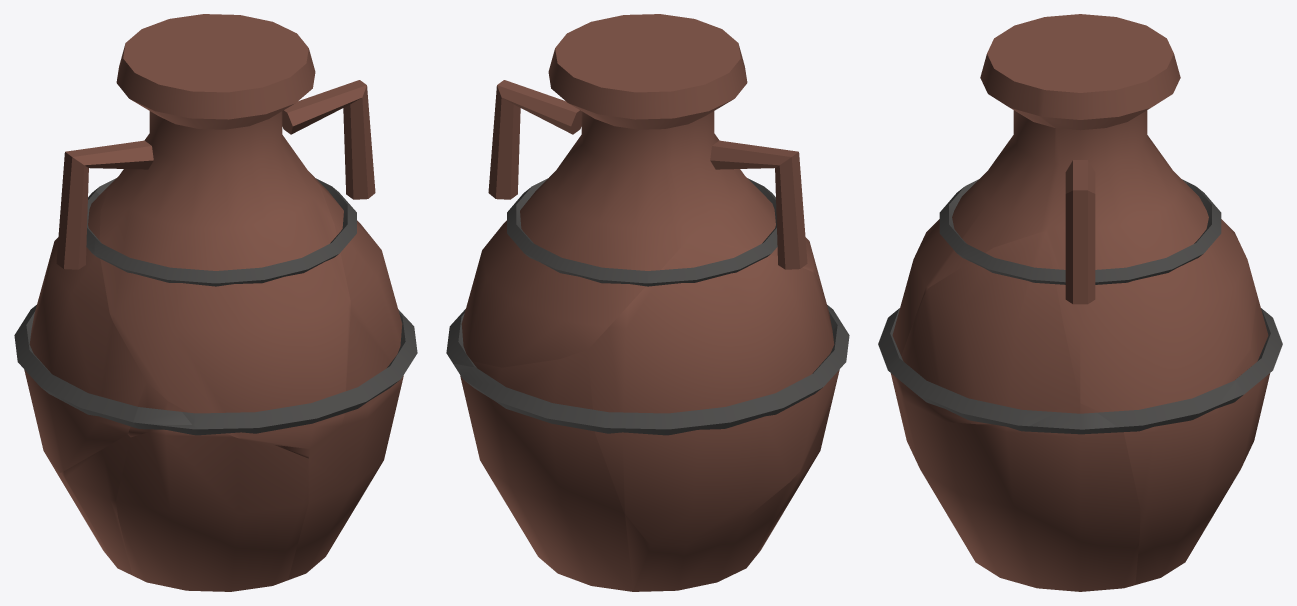
Rendered from urn_fragments.glb.
3 renders of one model, left to right at view 1: azimuth 30°, elevation 25°; view 2: azimuth 150°, elevation 25°; view 3: azimuth 270°, elevation 25°, orthographic.
Parts seen in each view (by area): view 1: frag_01, frag_02, frag_04, frag_00, frag_03, frag_05, frag_07, frag_08; view 2: frag_04, frag_05, frag_06, frag_01, frag_07, frag_00; view 3: frag_05, frag_00, frag_01, frag_03, frag_06.
Boxes of the visible parts, left/top/right/bottom form: frag_01: left=94, top=51, right=375, bottom=448; frag_02: left=116, top=425, right=308, bottom=591; frag_04: left=14, top=190, right=146, bottom=473; frag_00: left=56, top=140, right=406, bottom=580; frag_03: left=318, top=183, right=417, bottom=425; frag_05: left=92, top=14, right=364, bottom=228; frag_07: left=57, top=434, right=132, bottom=575; frag_08: left=127, top=381, right=311, bottom=458; frag_04: left=587, top=241, right=849, bottom=545; frag_05: left=446, top=20, right=691, bottom=367; frag_06: left=453, top=350, right=650, bottom=591; frag_01: left=488, top=14, right=830, bottom=307; frag_07: left=634, top=398, right=832, bottom=591; frag_00: left=460, top=140, right=807, bottom=314; frag_05: left=1037, top=20, right=1256, bottom=428; frag_00: left=893, top=381, right=1140, bottom=591; frag_01: left=878, top=14, right=1128, bottom=382; frag_03: left=885, top=232, right=1080, bottom=426; frag_06: left=1123, top=295, right=1282, bottom=584.
Size of the model in its own units: 0.6058 by 0.84 by 0.606.
